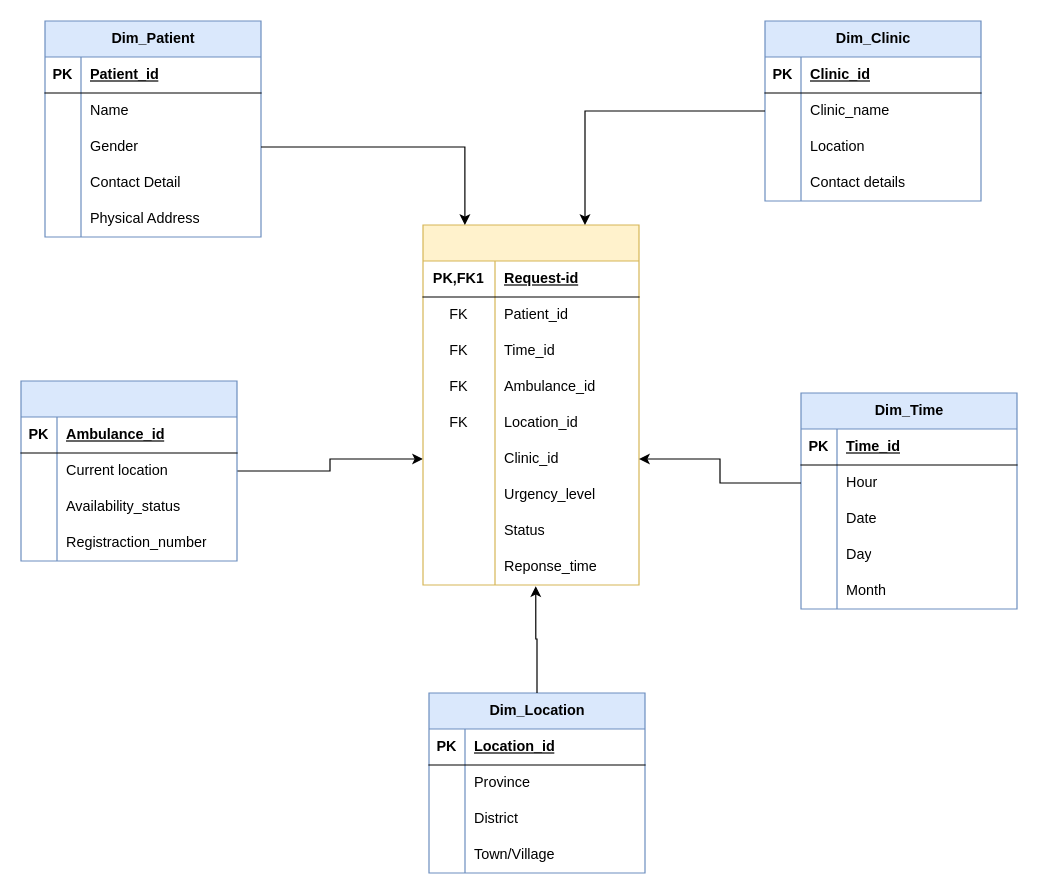
This 1038x894 diagram has some shape labels left out. The shapes that lost their labels are listed below. From the top down, each one's box as (x1, y1, x2, y2) in pixels, then its label:
(422, 224, 639, 585): FT_Emergency_Request
(20, 380, 237, 561): Dim_Ambulance
